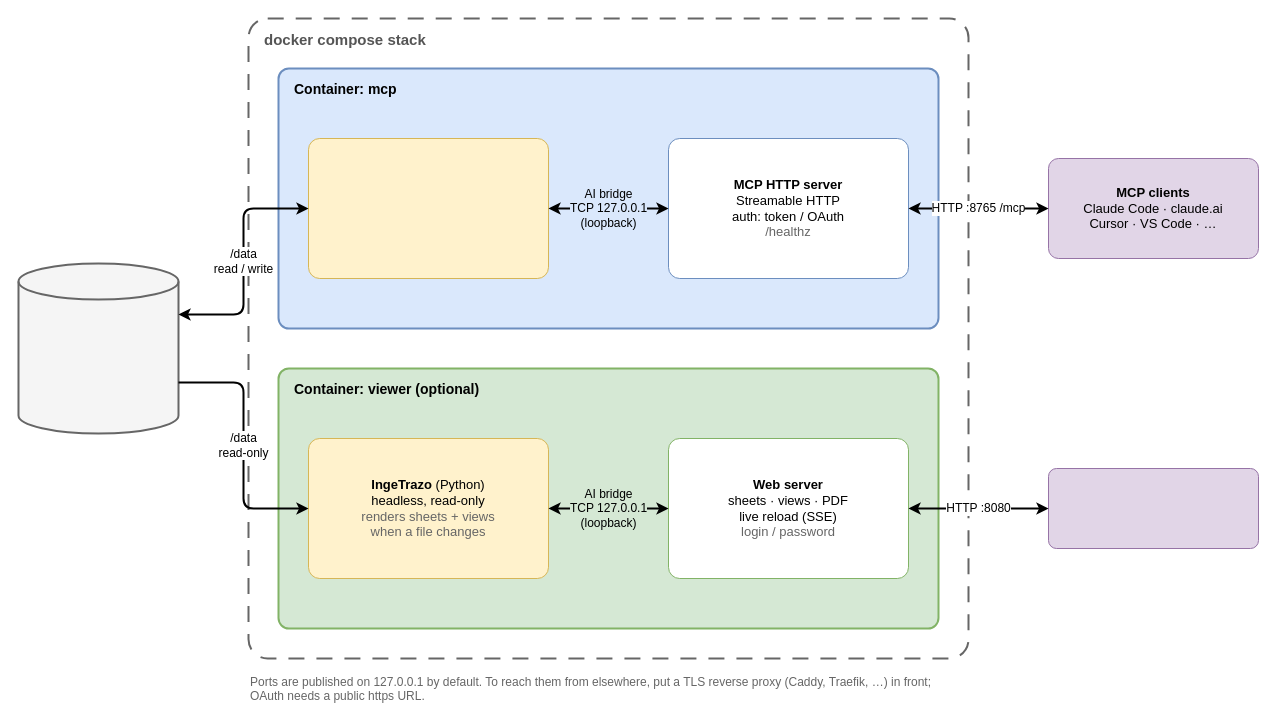
Some shapes in this 1276 by 725 pixel diagram are drawn without their labels. The centre of each missing label's shape, as x and y in pixels:
IngeTrazo (Python) headless, --ai-bridge Xvfb + Mesa (software OpenGL): [428,208]
Model storage host folder or volume ./data → /data *.igz: [98,348]
Web browser: [1153,508]
